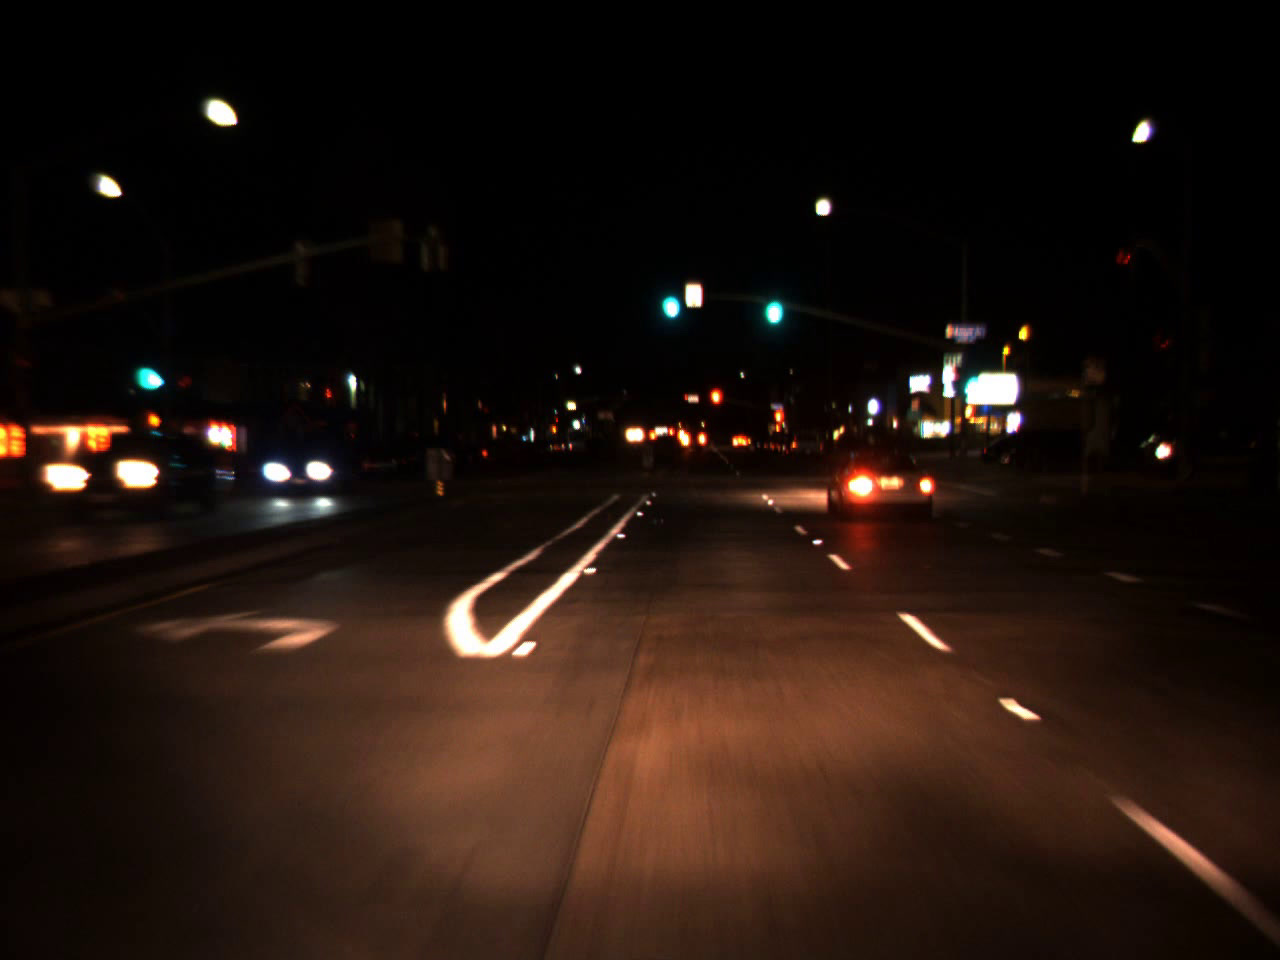go: (130, 339, 166, 399), (758, 270, 786, 333), (656, 271, 683, 325), (958, 354, 981, 399)
stop: (708, 386, 724, 423), (773, 407, 785, 436)
